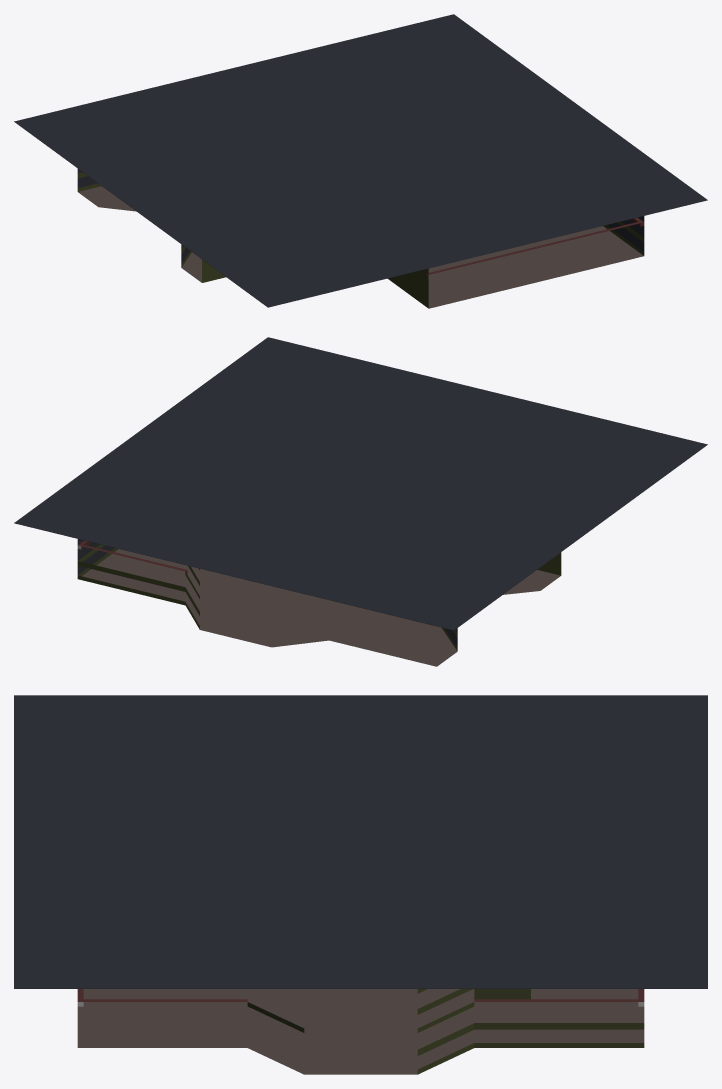
Rendered from Engineering Room Final.fbx.
The picture shows the model from 3 angles, top to bottom: view 1: azimuth 30°, elevation 25°; view 2: azimuth 150°, elevation 25°; view 3: azimuth 270°, elevation 25°; orthographic projection. The views are drawn at different scales.
Visible parts, largest first — view 1: pCube1, pasted__pPlane1; view 2: pCube1, pasted__pPlane1; view 3: pCube1, pasted__pPlane1.
Part boxes in pixels (<box>): pCube1: <box>14,14,707,307</box>; pasted__pPlane1: <box>77,168,644,308</box>; pCube1: <box>14,337,707,630</box>; pasted__pPlane1: <box>77,539,561,666</box>; pCube1: <box>14,695,707,988</box>; pasted__pPlane1: <box>77,989,644,1074</box>.
Bounding box in the file's own units: 23.41 × 3.22 × 23.41.
